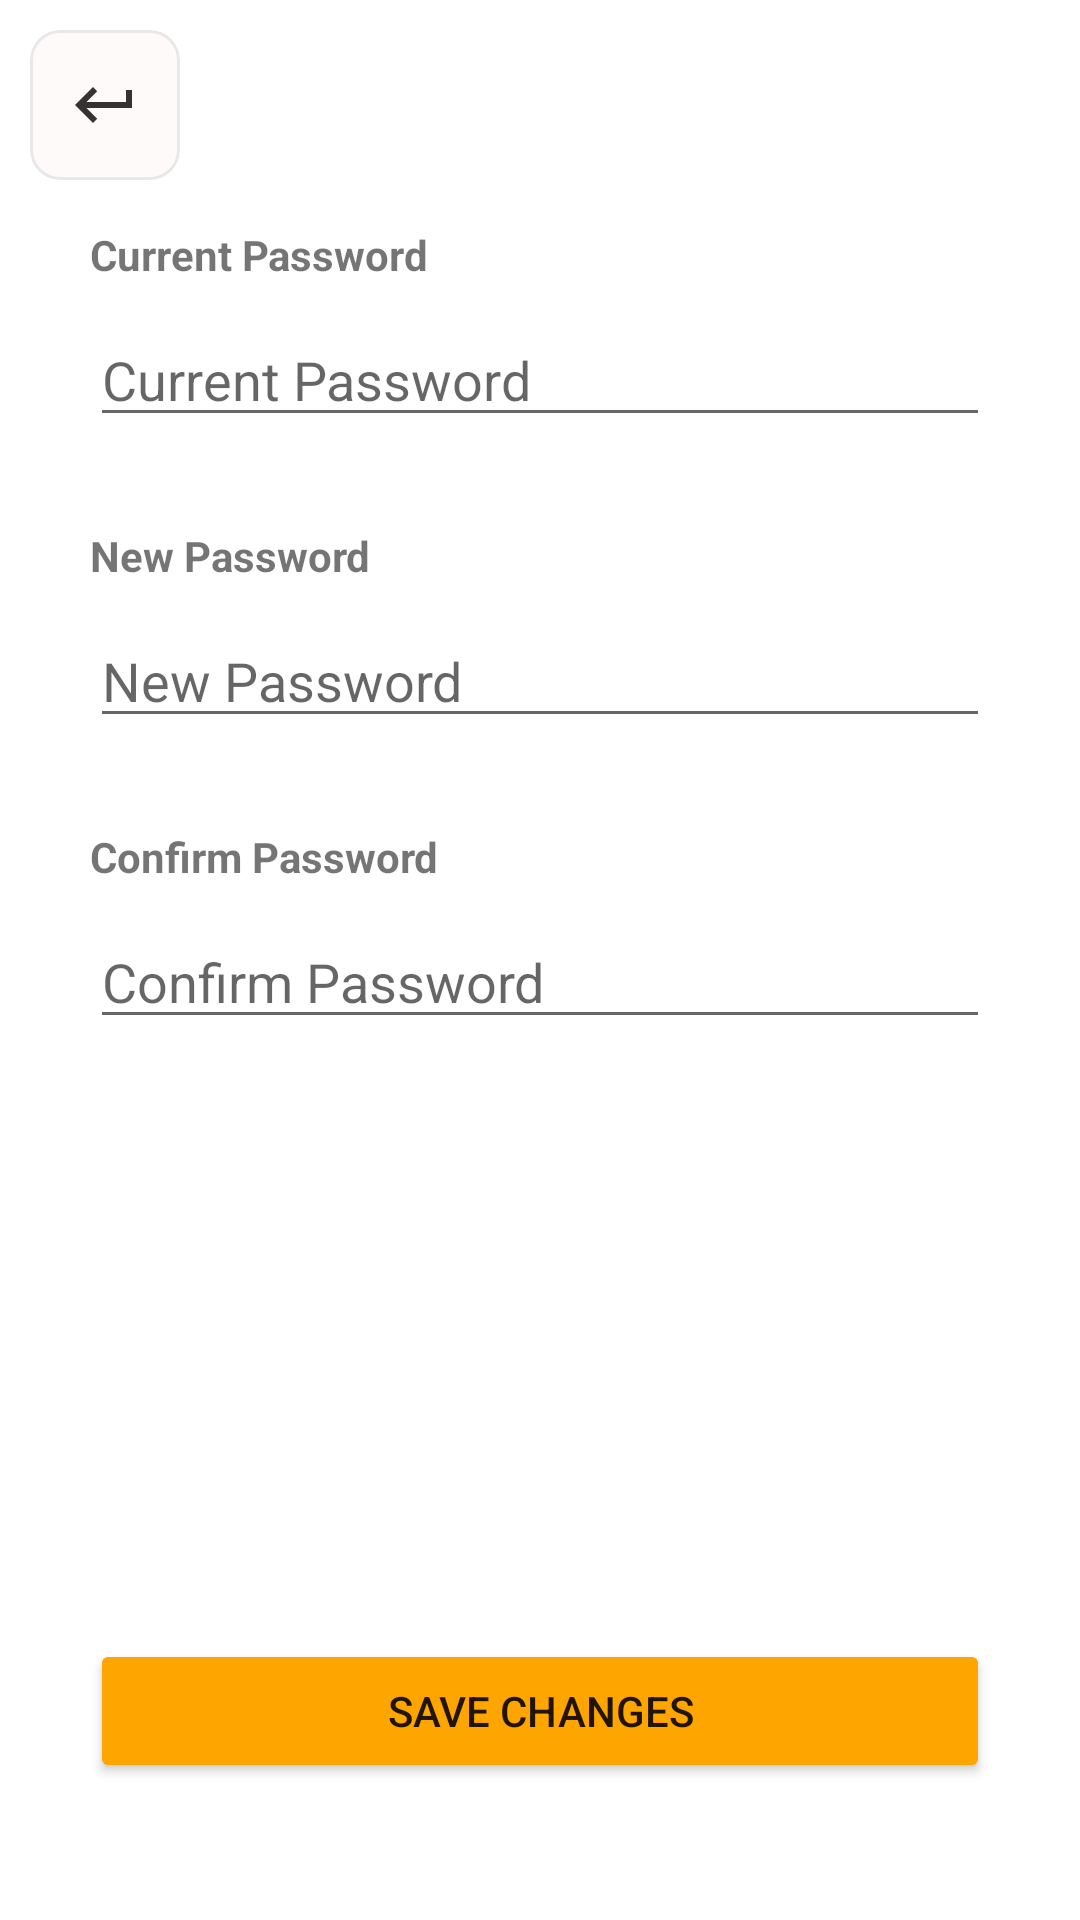

Icon bounding boxes for this 1080x1920 phone screenshot, format {"x1": x1, "y1": y1, "x2": x2, "y2": y2}:
exit: {"x1": 75, "y1": 87, "x2": 132, "y2": 123}
